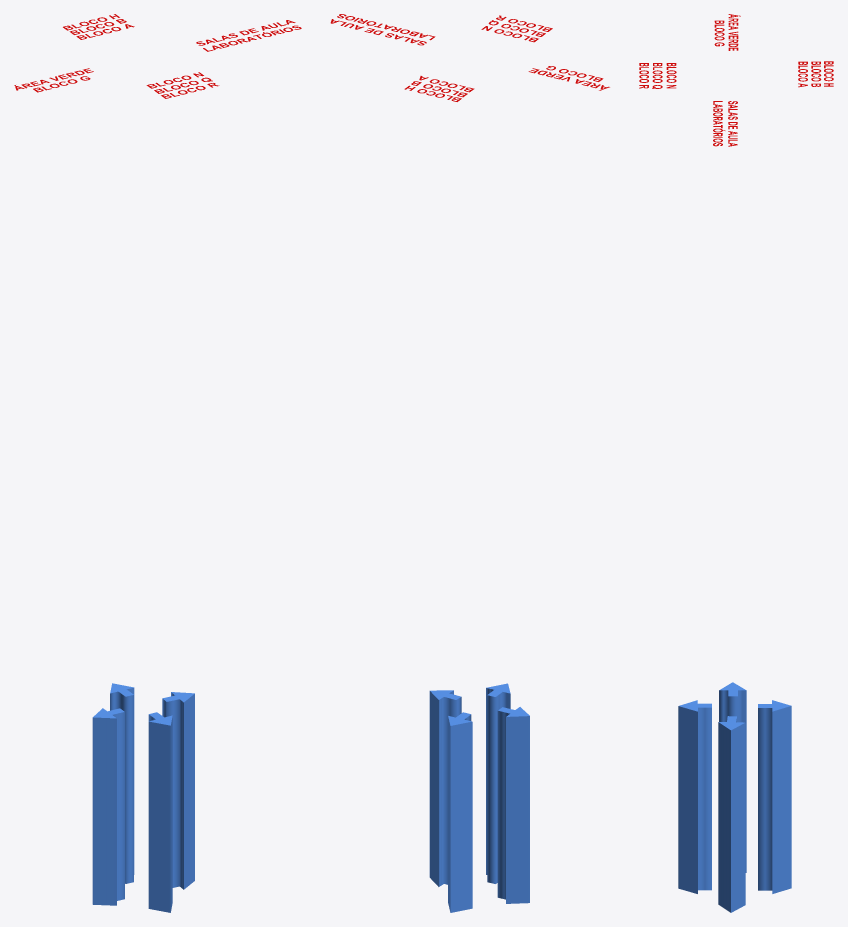
The model's file is Seta bloco M - 1.glb.
The picture shows the model from 3 angles, left to right: view 1: azimuth 30°, elevation 25°; view 2: azimuth 150°, elevation 25°; view 3: azimuth 270°, elevation 25°; orthographic projection. The views are drawn at different scales.
Visible parts, largest first — view 1: Curve.001, Curve.004, Curve.003, Curve.006; view 2: Curve.001, Curve.006, Curve.003, Curve.004; view 3: Curve.004, Curve.006, Curve.003, Curve.001.
Part boxes in pixels (<box>): Curve.001: <box>92,708,124,905</box>; Curve.004: <box>148,712,172,912</box>; Curve.003: <box>162,692,194,889</box>; Curve.006: <box>110,683,134,883</box>; Curve.001: <box>497,707,529,903</box>; Curve.006: <box>448,712,472,912</box>; Curve.003: <box>429,690,461,886</box>; Curve.004: <box>486,683,510,883</box>; Curve.004: <box>678,700,711,893</box>; Curve.006: <box>758,700,791,893</box>; Curve.003: <box>718,716,745,912</box>; Curve.001: <box>719,682,746,872</box>.
Bounding box in the file's own units: 0.2054 × 0.5868 × 0.1272.
